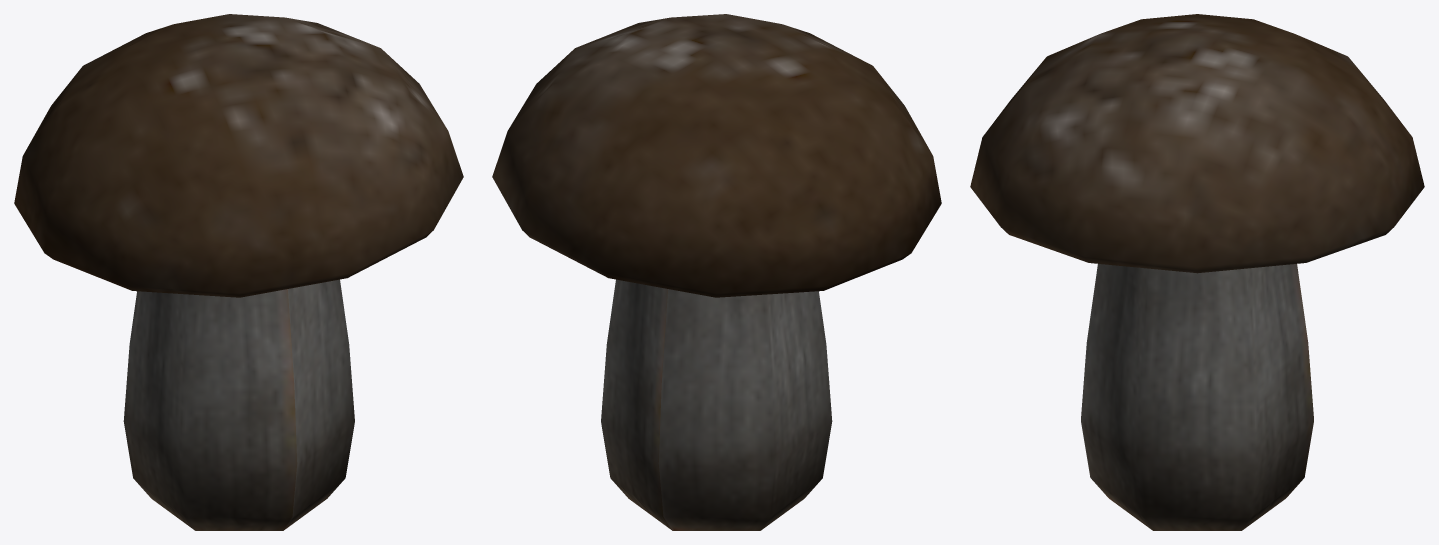
Rendered from mushroom_n_2_1.obj.
3 renders of one model, left to right at view 1: azimuth 30°, elevation 25°; view 2: azimuth 150°, elevation 25°; view 3: azimuth 270°, elevation 25°, orthographic.
Visible parts, largest first — view 1: mushroom_n_2_1; view 2: mushroom_n_2_1; view 3: mushroom_n_2_1.
Part boxes in pixels (<box>): mushroom_n_2_1: <box>14,14,463,530</box>; mushroom_n_2_1: <box>492,14,941,530</box>; mushroom_n_2_1: <box>970,14,1424,530</box>.
Size of the model in its own units: 0.1974 by 0.2197 by 0.198.
